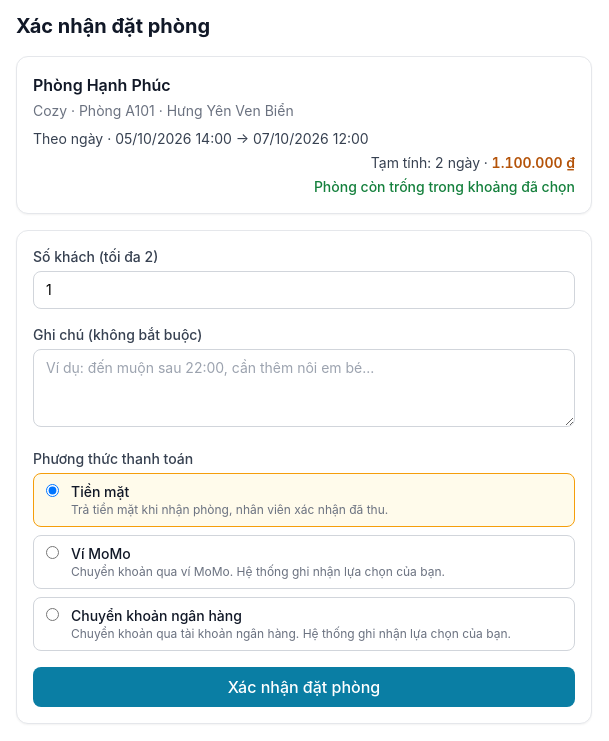
Test: Booking - phuong thuc thanh toan (Buoc 27) › ChonViMoMo_GuiDungMaPhuongThuc
Check: the heading "Xác nhận đặt phòng" is shown, box [16, 14, 210, 38]
Check: the text "Phòng còn trống trong khoảng đã chọn" is shown, box [314, 178, 575, 195]
Click the radio button labelled "Ví MoMo": click(52, 552) [46, 546, 59, 559]
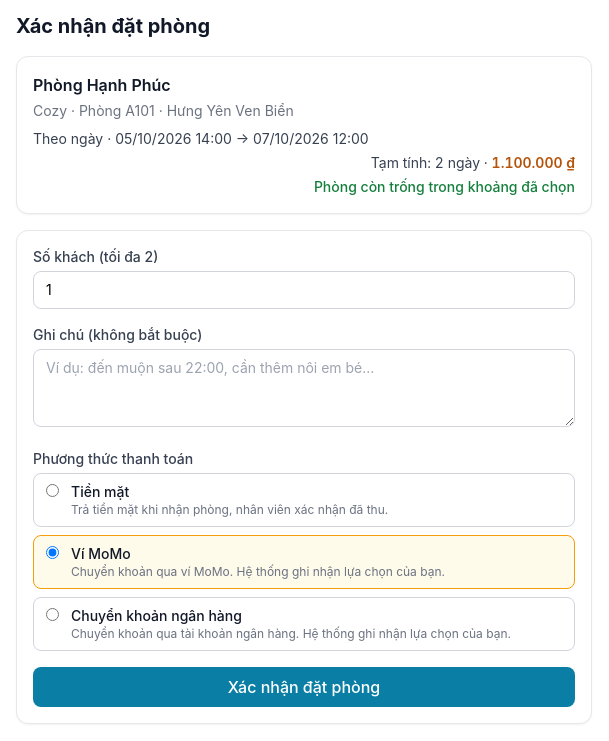
Click the button "Xác nhận đặt phòng": click(304, 687) [33, 667, 575, 707]
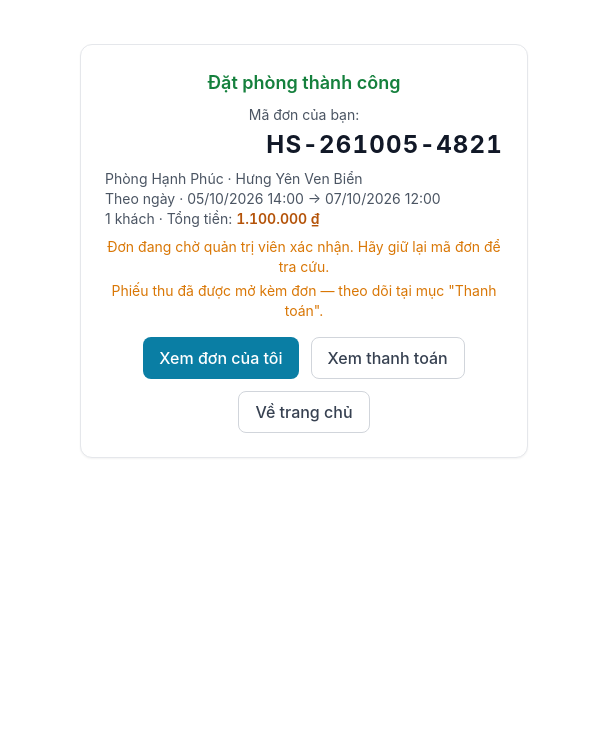
Check: the text "Đặt phòng thành công" is shown, box [208, 72, 400, 93]
